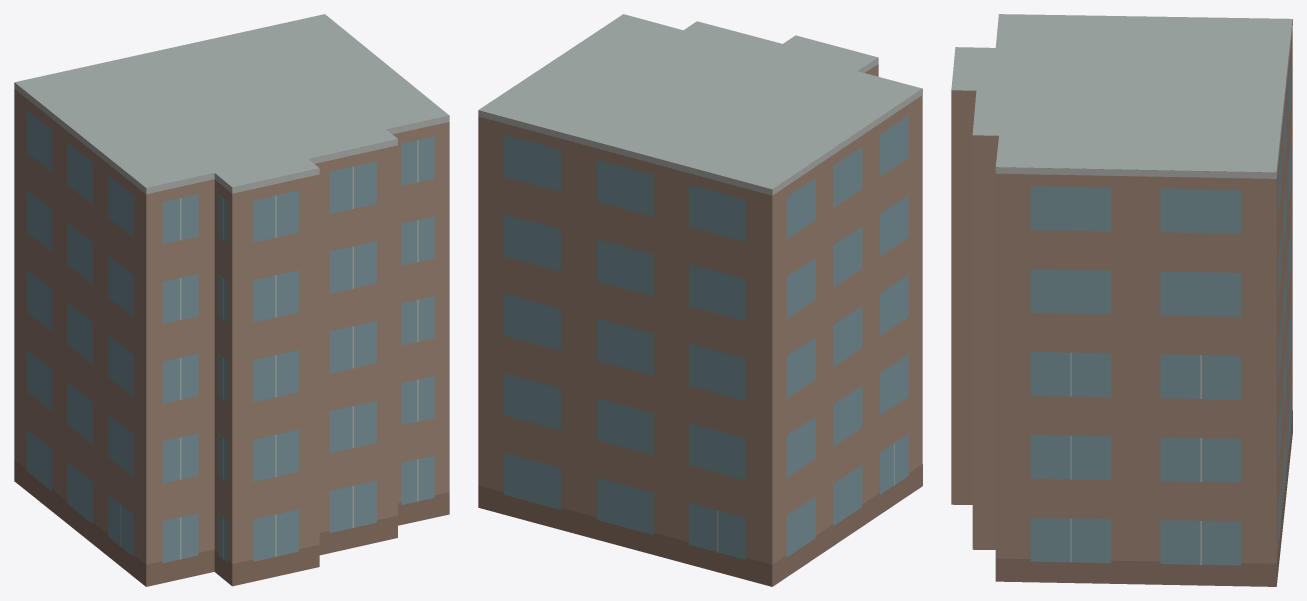
File: survey-upis-32868246.glb
3 views of the same model, side by side, from view 1: azimuth 30°, elevation 25°; view 2: azimuth 150°, elevation 25°; view 3: azimuth 270°, elevation 25° (orthographic). The views are drawn at different scales.
Parts seen in each view (by area): view 1: survey-upis-32868246.tmp; view 2: survey-upis-32868246.tmp; view 3: survey-upis-32868246.tmp.
Part boxes in pixels (box(x1,y1,x2,y2)): survey-upis-32868246.tmp: box(14, 14, 449, 586); survey-upis-32868246.tmp: box(478, 14, 922, 586); survey-upis-32868246.tmp: box(951, 14, 1292, 586).
Bounding box in the file's own units: 12.63 × 15.4 × 11.51.
